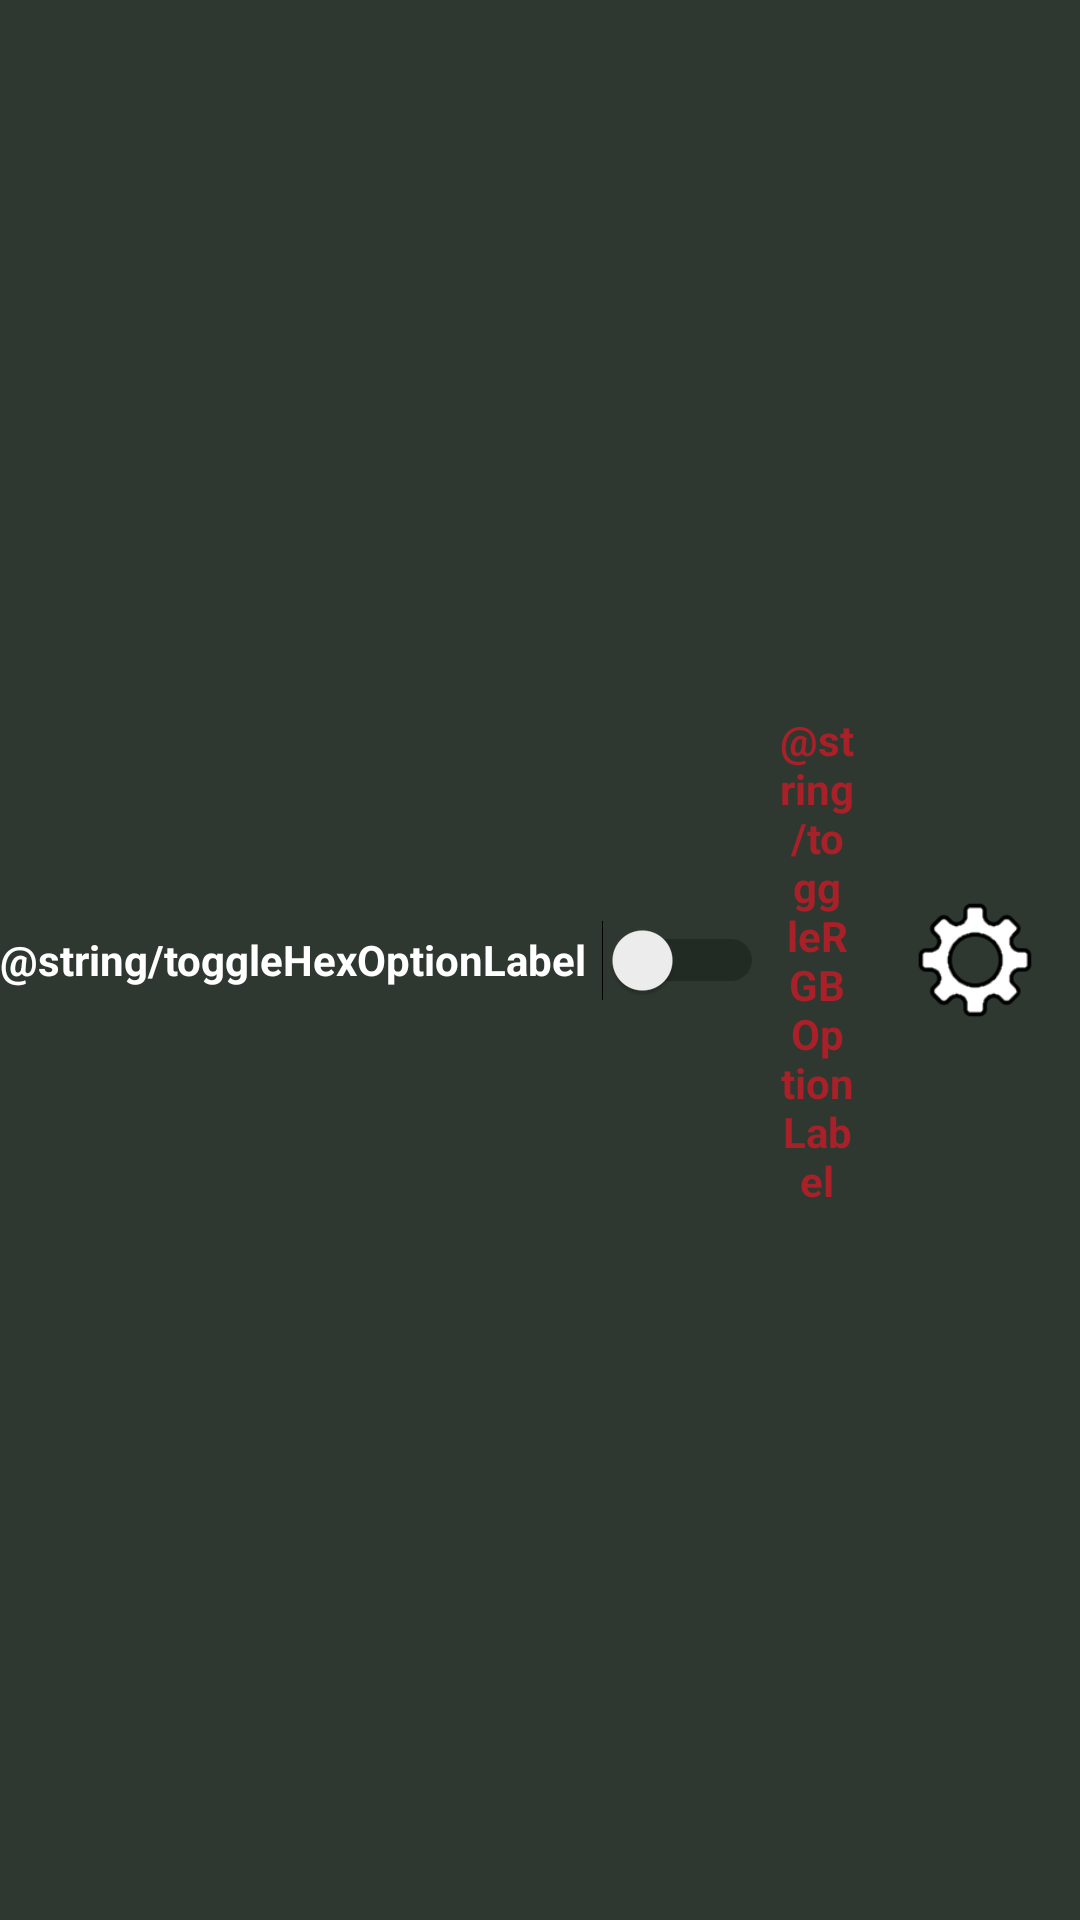

Point at icon controls on the screen. Image size 1080px×1920px, points as [x,y].
Settings button: [975,960]
